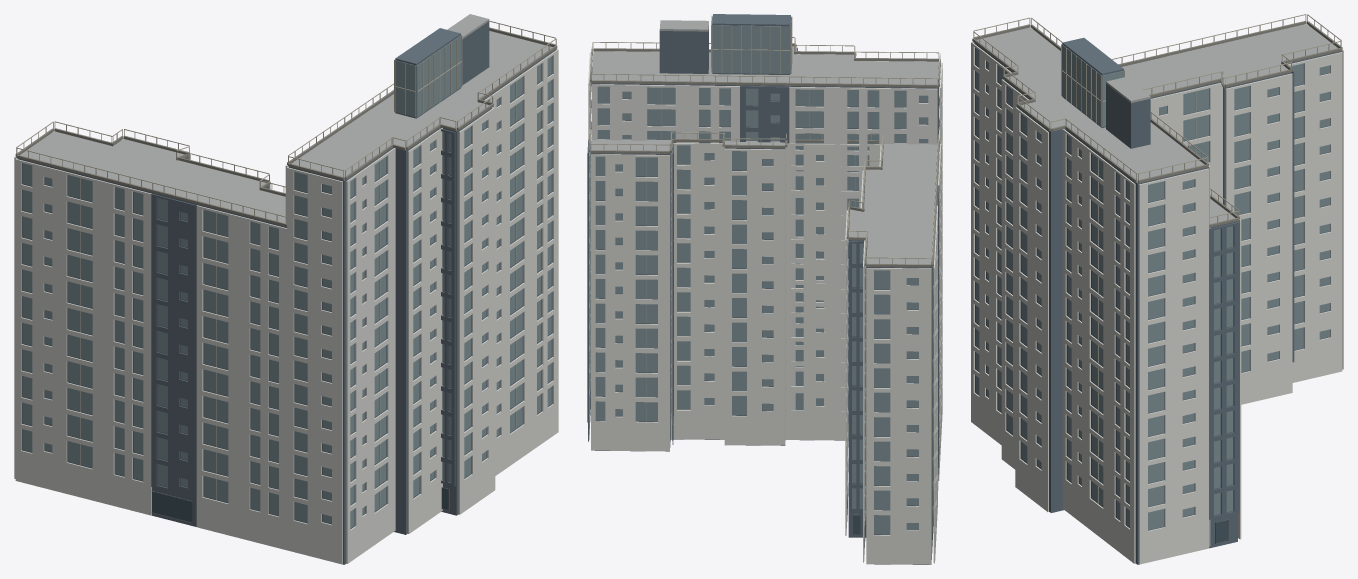
File: bespoke-raemian-onebailey-111.glb
3 views of the same model, side by side, from view 1: azimuth 30°, elevation 25°; view 2: azimuth 150°, elevation 25°; view 3: azimuth 270°, elevation 25° (orthographic). The views are drawn at different scales.
Parts seen in each view (by area): view 1: 111_pale_bays_navy_shafts_5, 111_pale_bays_navy_shafts_1, 111_editable_massing, 111_glass_roof_crown_4, 111_pale_bays_navy_shafts_4, 111_glass_roof_crown_1, 111_glass_roof_crown_2, 111_pale_bays_navy_shafts_3, 111_pale_bays_navy_shafts_2, 111_glass_roof_crown_3; view 2: 111_pale_bays_navy_shafts_5, 111_pale_bays_navy_shafts_1, 111_glass_roof_crown_4, 111_pale_bays_navy_shafts_4, 111_editable_massing, 111_glass_roof_crown_1, 111_glass_roof_crown_2, 111_pale_bays_navy_shafts_3, 111_glass_roof_crown_3; view 3: 111_pale_bays_navy_shafts_5, 111_pale_bays_navy_shafts_1, 111_editable_massing, 111_glass_roof_crown_4, 111_pale_bays_navy_shafts_4, 111_glass_roof_crown_1, 111_glass_roof_crown_2, 111_pale_bays_navy_shafts_3, 111_glass_roof_crown_3.
Boxes of the visible parts, x1=… form: 111_pale_bays_navy_shafts_5: x1=14, y1=30, x2=558, y2=564; 111_pale_bays_navy_shafts_1: x1=22, y1=35, x2=551, y2=528; 111_editable_massing: x1=17, y1=21, x2=555, y2=564; 111_glass_roof_crown_4: x1=20, y1=14, x2=552, y2=223; 111_pale_bays_navy_shafts_4: x1=115, y1=94, x2=455, y2=498; 111_glass_roof_crown_1: x1=15, y1=27, x2=557, y2=226; 111_glass_roof_crown_2: x1=16, y1=20, x2=556, y2=221; 111_pale_bays_navy_shafts_3: x1=80, y1=34, x2=516, y2=508; 111_pale_bays_navy_shafts_2: x1=152, y1=487, x2=449, y2=522; 111_glass_roof_crown_3: x1=395, y1=28, x2=460, y2=65; 111_pale_bays_navy_shafts_5: x1=588, y1=46, x2=942, y2=564; 111_pale_bays_navy_shafts_1: x1=590, y1=16, x2=939, y2=534; 111_glass_roof_crown_4: x1=591, y1=20, x2=938, y2=267; 111_pale_bays_navy_shafts_4: x1=587, y1=47, x2=939, y2=510; 111_editable_massing: x1=591, y1=27, x2=938, y2=564; 111_glass_roof_crown_1: x1=589, y1=43, x2=940, y2=267; 111_glass_roof_crown_2: x1=589, y1=37, x2=940, y2=264; 111_pale_bays_navy_shafts_3: x1=646, y1=16, x2=938, y2=421; 111_glass_roof_crown_3: x1=712, y1=14, x2=790, y2=26; 111_pale_bays_navy_shafts_5: x1=971, y1=24, x2=1343, y2=564; 111_pale_bays_navy_shafts_1: x1=976, y1=44, x2=1329, y2=530; 111_editable_massing: x1=974, y1=43, x2=1340, y2=564; 111_glass_roof_crown_4: x1=977, y1=24, x2=1337, y2=223; 111_pale_bays_navy_shafts_4: x1=1017, y1=57, x2=1294, y2=519; 111_glass_roof_crown_1: x1=972, y1=21, x2=1342, y2=227; 111_glass_roof_crown_2: x1=973, y1=14, x2=1341, y2=222; 111_pale_bays_navy_shafts_3: x1=1003, y1=44, x2=1196, y2=503; 111_glass_roof_crown_3: x1=1062, y1=37, x2=1123, y2=75.
Bounding box in the file's own units: 54.98 × 50.45 × 39.02.
